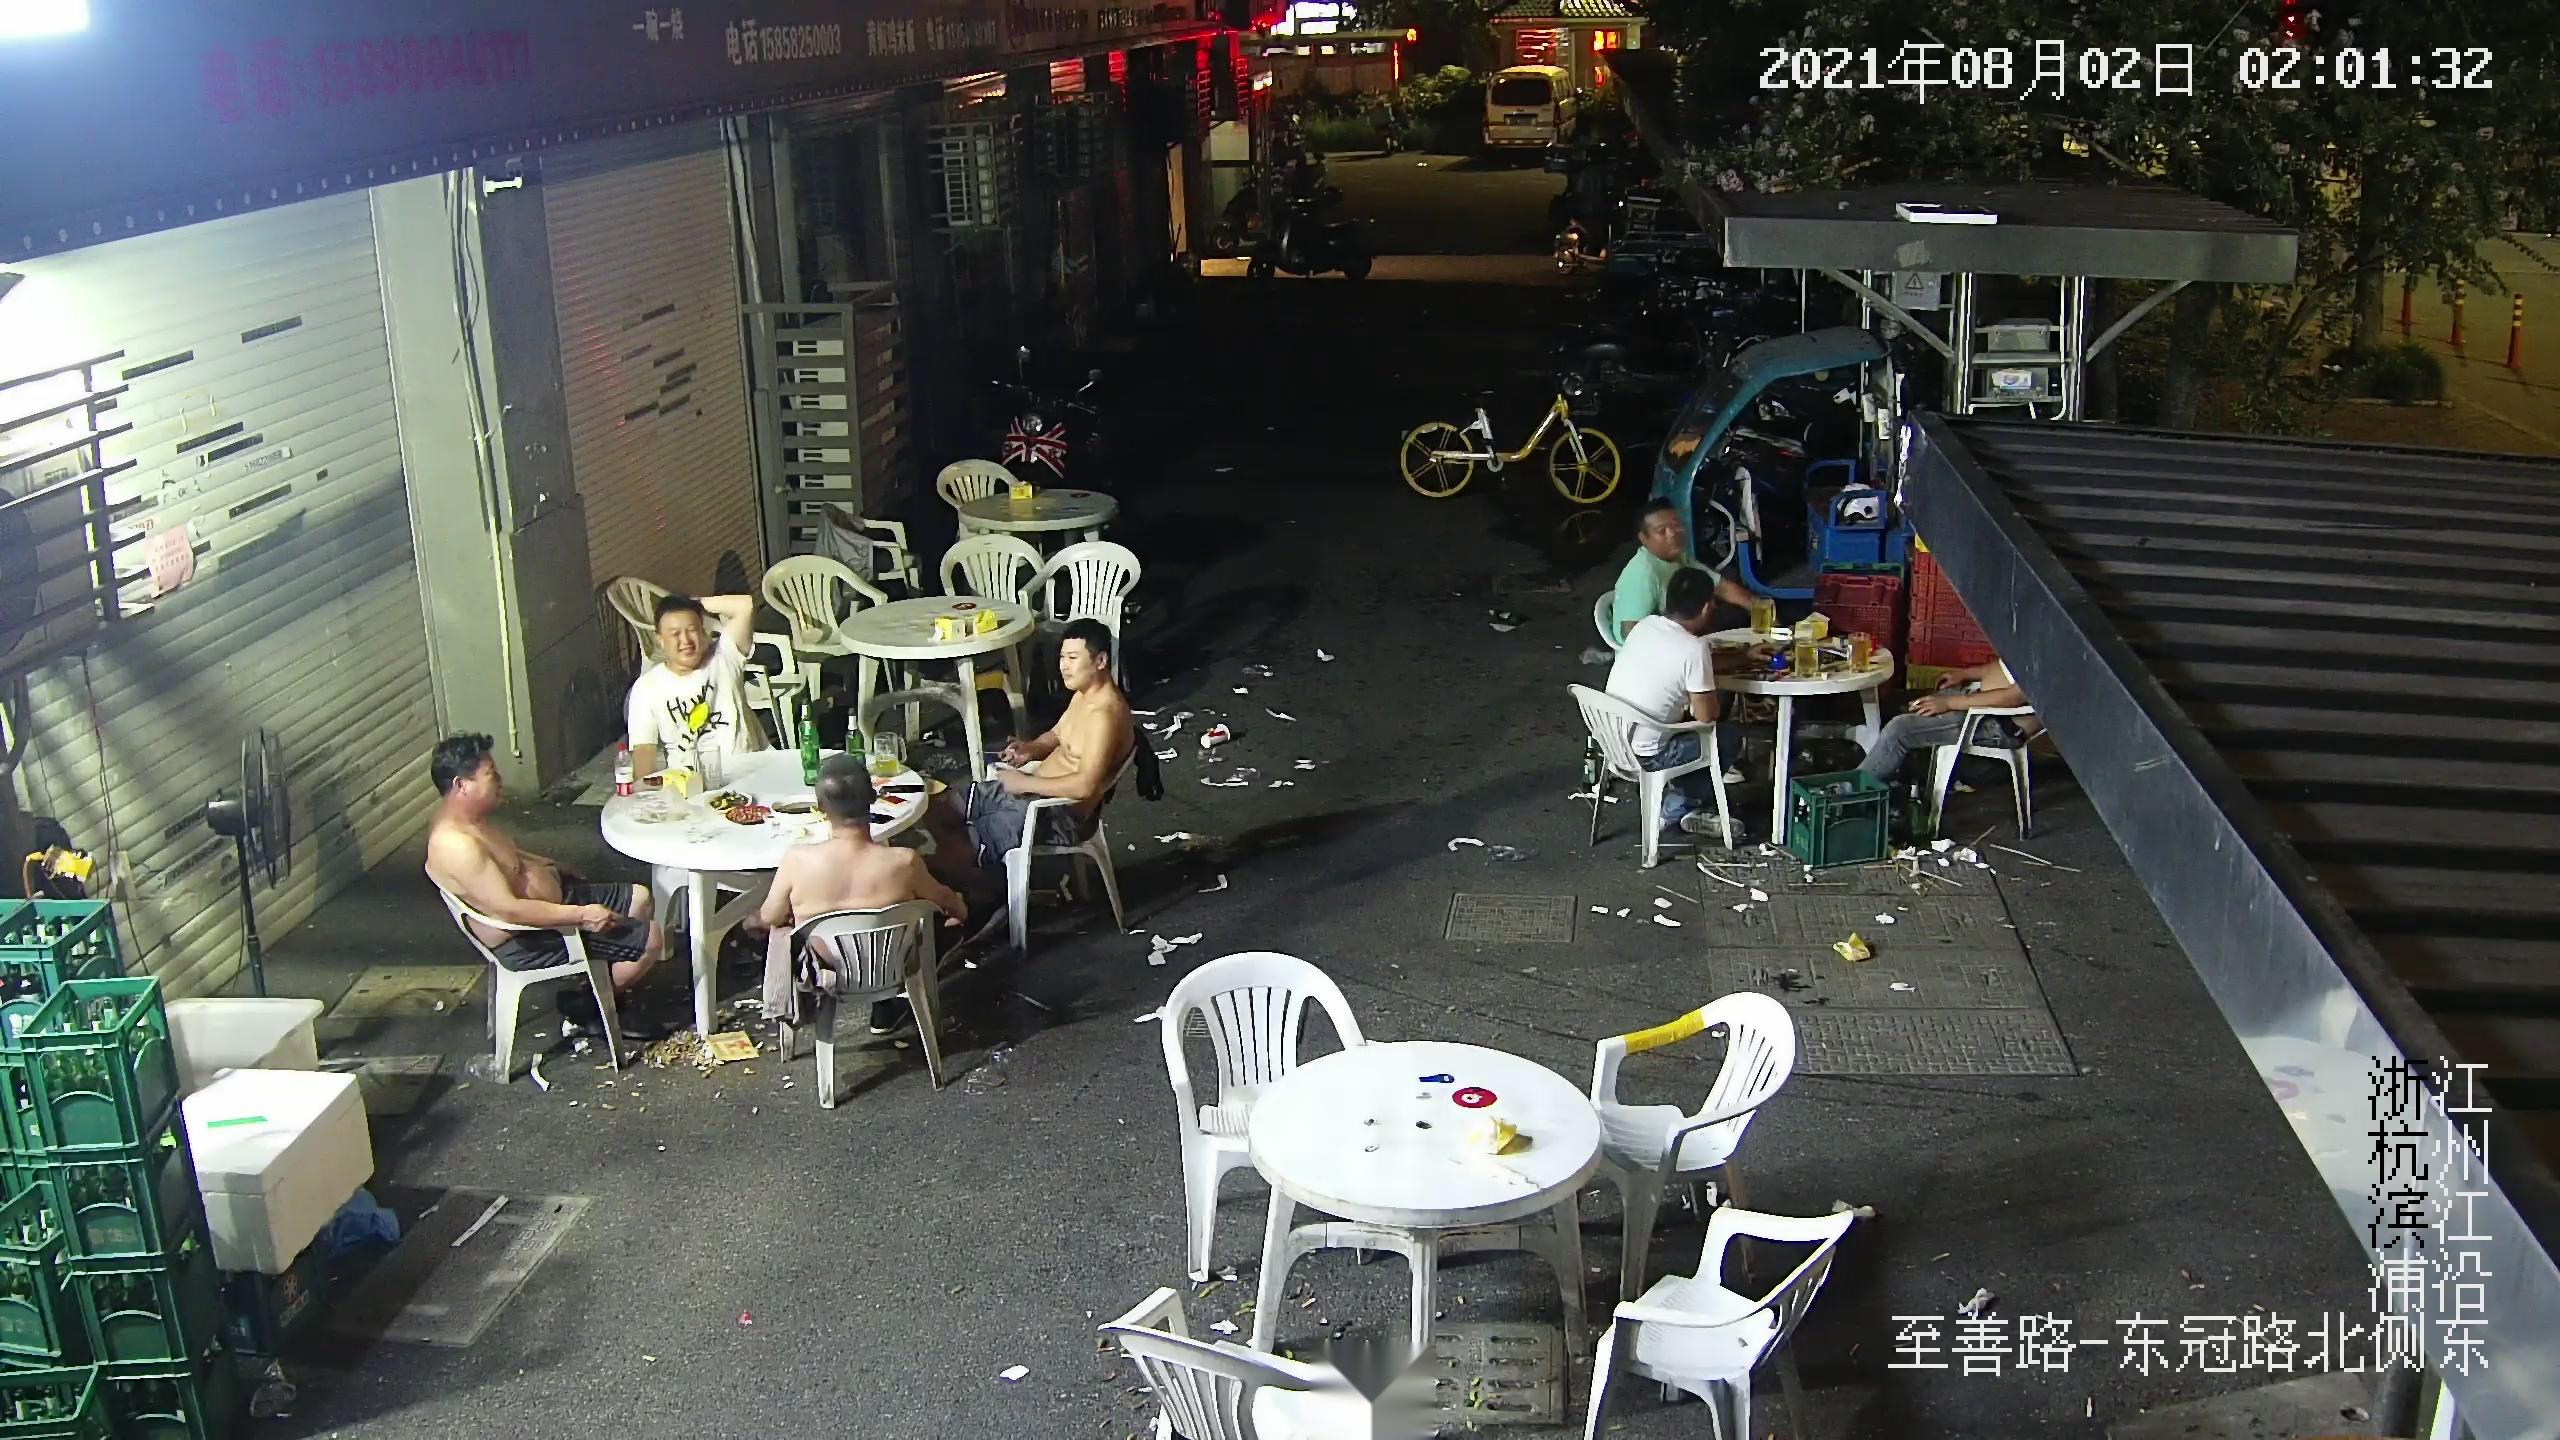chair: (1162, 944, 1373, 1278), (1575, 1199, 1864, 1435), (1591, 988, 1802, 1306), (420, 858, 629, 1085), (774, 897, 951, 1115), (601, 571, 811, 749), (985, 740, 1148, 956), (1095, 1278, 1319, 1436), (1561, 679, 1737, 869), (760, 549, 900, 717), (1013, 535, 1145, 695), (1920, 702, 2048, 846), (816, 501, 920, 617), (935, 529, 1046, 596), (934, 457, 1022, 536)
table: (1243, 1036, 1604, 1417), (598, 742, 935, 1050), (1698, 617, 1895, 847), (837, 594, 1037, 782), (953, 485, 1122, 577)
table_chair: (1092, 937, 1873, 1438), (413, 731, 1155, 1124), (594, 526, 1148, 791), (1554, 610, 2054, 881), (811, 454, 1125, 578)
